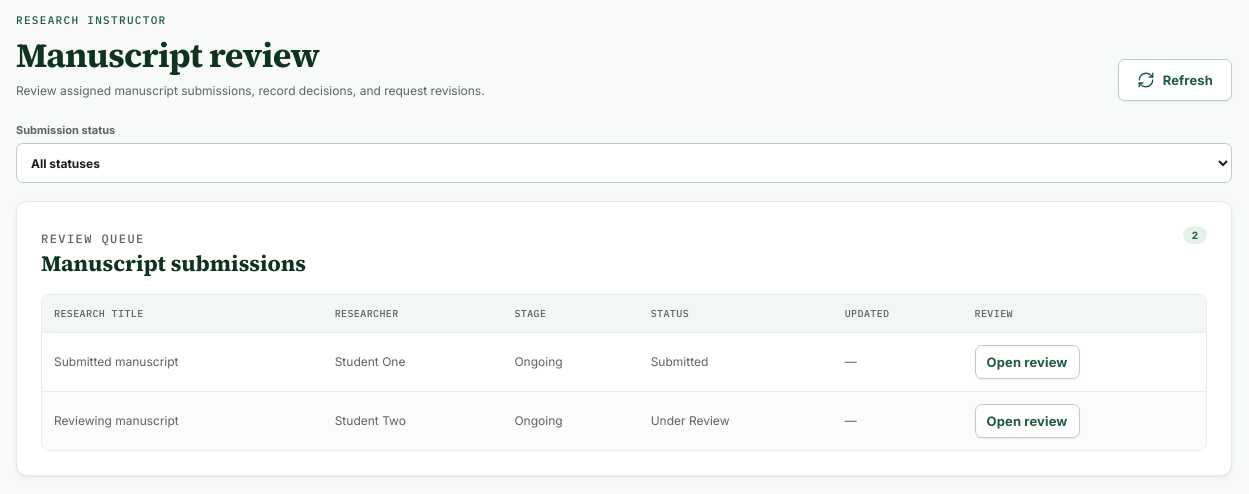
Scenario: role workspace pages › uses the manuscript queue and filters its returned submissions by status
The width and height of the screenshot is (1249, 494).
Expected: the text "Submitted manuscript" is shown, [42,333,323,391]
Expected: the text "Reviewing manuscript" is shown, [42,391,323,450]
Step 1. Select "Under Review" in the dropdown labelled "Submission status" → [624, 163], box [16,143,1232,183]
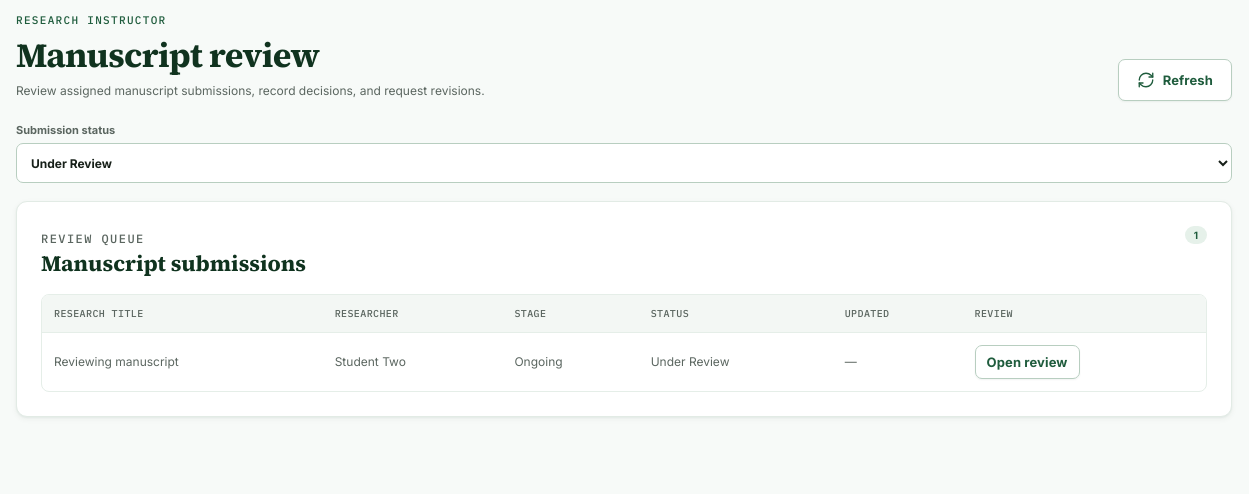
Expected: the text "Reviewing manuscript" is shown, [42,333,323,391]
Result: the text "Submitted manuscript" is gone
